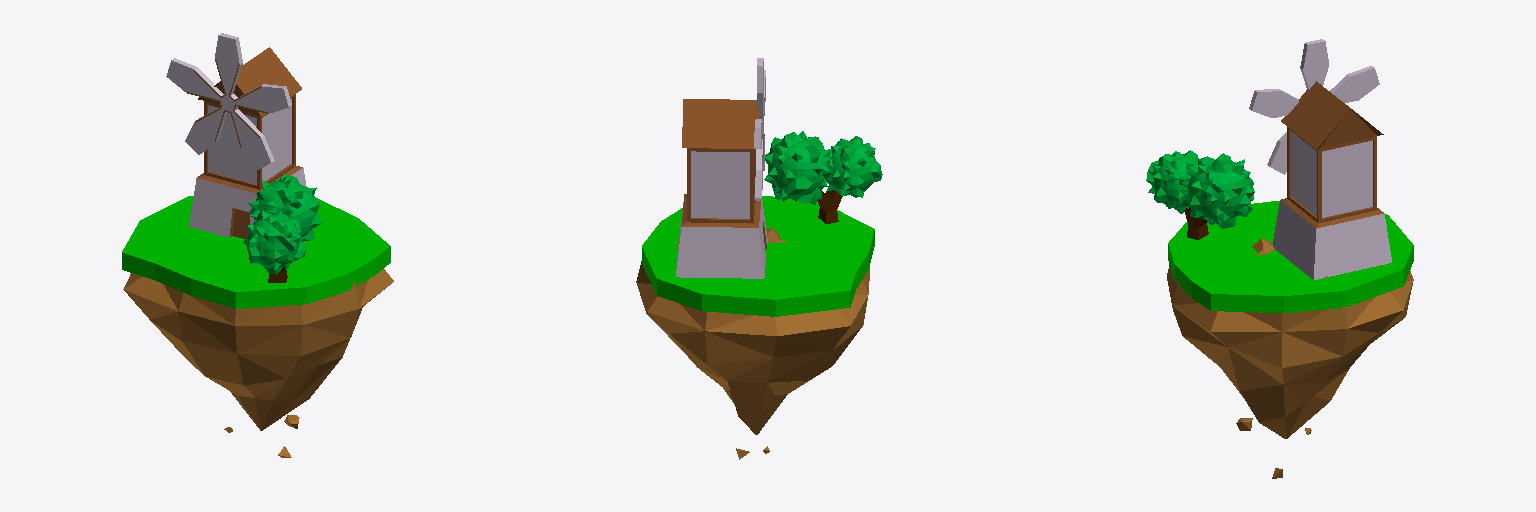
Rendered from Low_Poly_Mill.obj.
3 renders of one model, left to right at view 1: azimuth 30°, elevation 25°; view 2: azimuth 150°, elevation 25°; view 3: azimuth 270°, elevation 25°, orthographic.
Visible parts, largest first — view 1: Island_Untitled.003, Green_platform_Untitled.002, Mill_Untitled.001, propeller_Untitled, Tree_Untitled.004; view 2: Green_platform_Untitled.002, Island_Untitled.003, Mill_Untitled.001, Tree_Untitled.004, propeller_Untitled; view 3: Island_Untitled.003, Mill_Untitled.001, Green_platform_Untitled.002, Tree_Untitled.004, propeller_Untitled.
Part boxes in pixels (x1,y1,x2,y2): Island_Untitled.003: (123, 269, 393, 457); Green_platform_Untitled.002: (122, 196, 390, 308); Mill_Untitled.001: (189, 47, 306, 238); propeller_Untitled: (166, 33, 291, 169); Tree_Untitled.004: (243, 174, 321, 282); Green_platform_Untitled.002: (642, 196, 874, 316); Island_Untitled.003: (636, 228, 869, 459); Mill_Untitled.001: (676, 99, 767, 278); Tree_Untitled.004: (764, 131, 882, 223); propeller_Untitled: (754, 58, 765, 200); Island_Untitled.003: (1167, 238, 1413, 478); Mill_Untitled.001: (1273, 81, 1391, 279); Green_platform_Untitled.002: (1168, 201, 1413, 312); Tree_Untitled.004: (1146, 150, 1254, 239); propeller_Untitled: (1249, 39, 1379, 174).
Size of the model in its own units: 14.48 by 26.73 by 15.48.